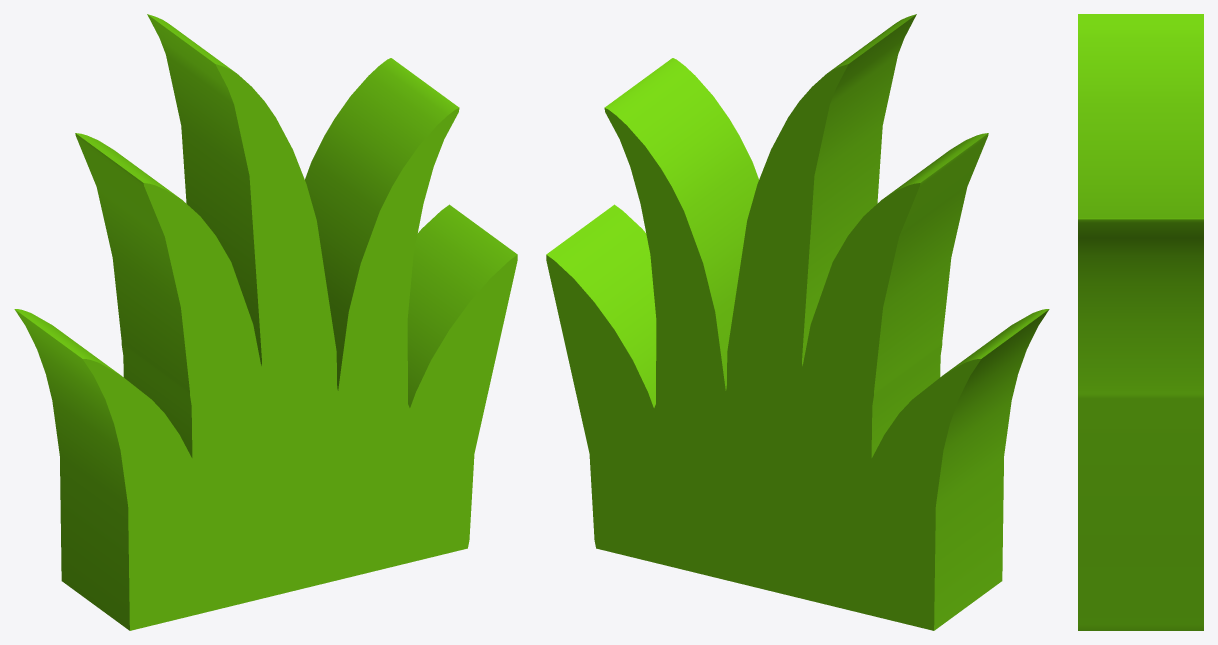
The picture shows the model from 3 angles, left to right: view 1: azimuth 30°, elevation 25°; view 2: azimuth 150°, elevation 25°; view 3: azimuth 270°, elevation 25°; orthographic projection. The views are drawn at different scales.
Parts seen in each view (by area): view 1: Curve.001_Material.001_0; view 2: Curve.001_Material.001_0; view 3: Curve.001_Material.001_0.
Boxes of the visible parts, left/top/right/bottom form: Curve.001_Material.001_0: left=14, top=14, right=517, bottom=630; Curve.001_Material.001_0: left=546, top=14, right=1049, bottom=630; Curve.001_Material.001_0: left=1078, top=14, right=1203, bottom=630.
Bounding box in the file's own units: 0.6765 × 0.8112 × 0.1838.
